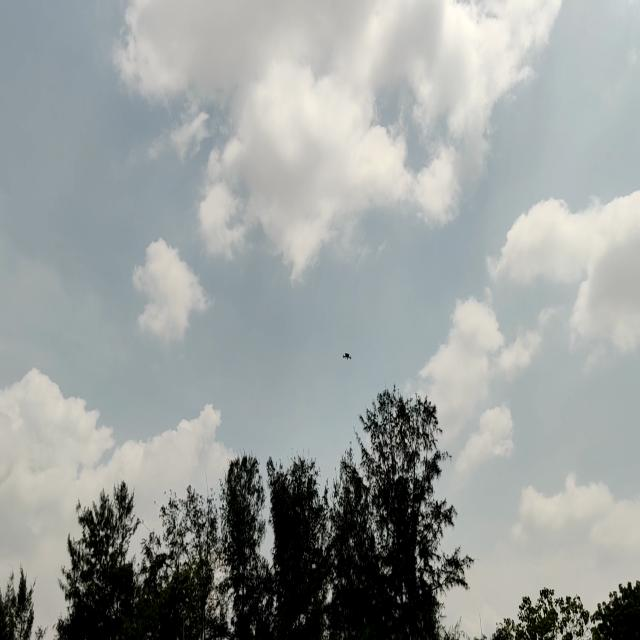drone: (339, 349, 355, 364)
